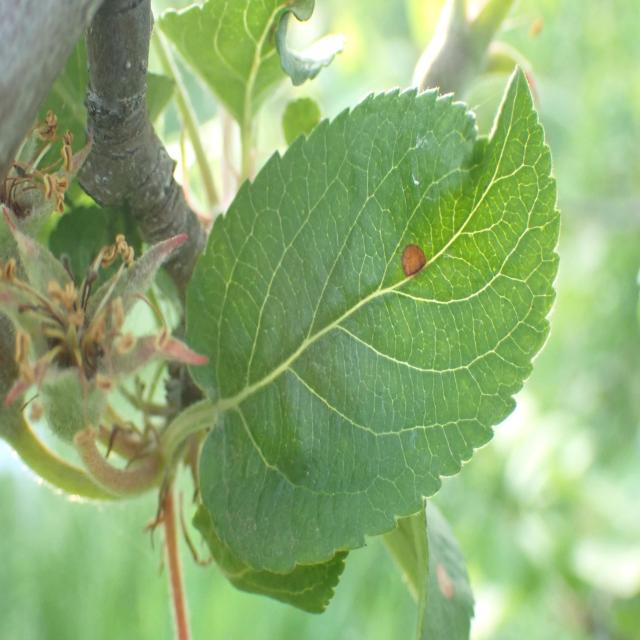Black Rot: (386, 216, 439, 299)
